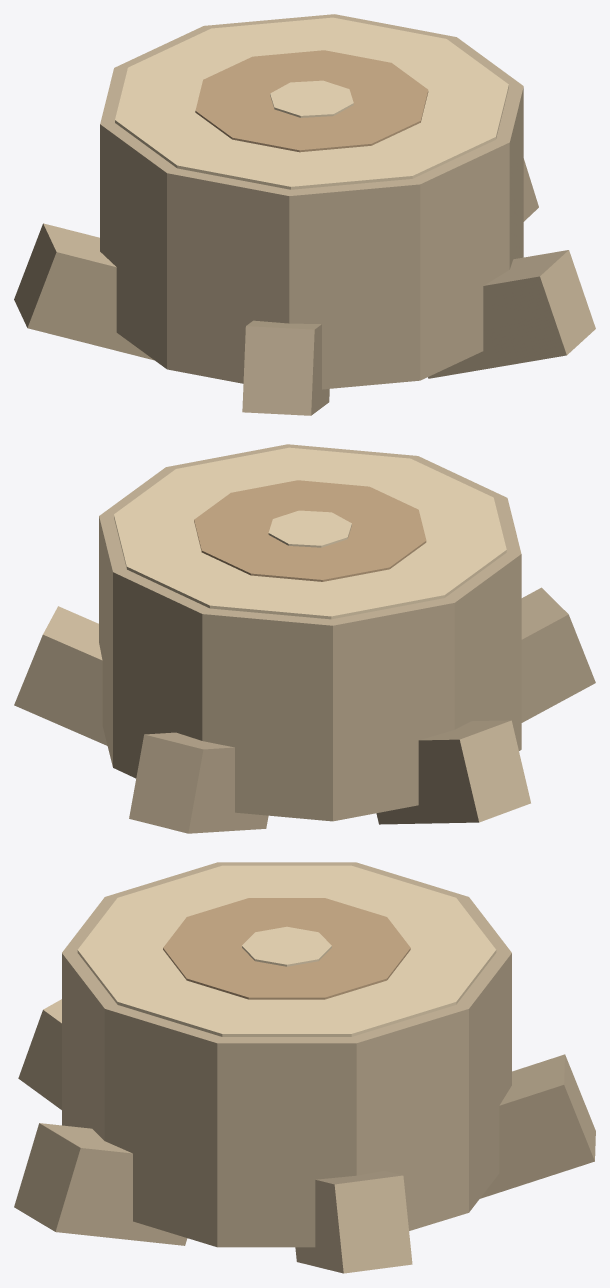
Rendered from Stump_Palm.fbx.
3 renders of one model, top to bottom at view 1: azimuth 30°, elevation 25°; view 2: azimuth 150°, elevation 25°; view 3: azimuth 270°, elevation 25°, orthographic. The views are drawn at different scales.
Visible parts, largest first — view 1: Stump_Palm_Mesh; view 2: Stump_Palm_Mesh; view 3: Stump_Palm_Mesh.
Part boxes in pixels (x1,y1,x2,y2): Stump_Palm_Mesh: [14, 14, 595, 415]; Stump_Palm_Mesh: [14, 444, 595, 833]; Stump_Palm_Mesh: [14, 862, 595, 1273].
Bounding box in the file's own units: 2.71 × 1.23 × 2.59.
